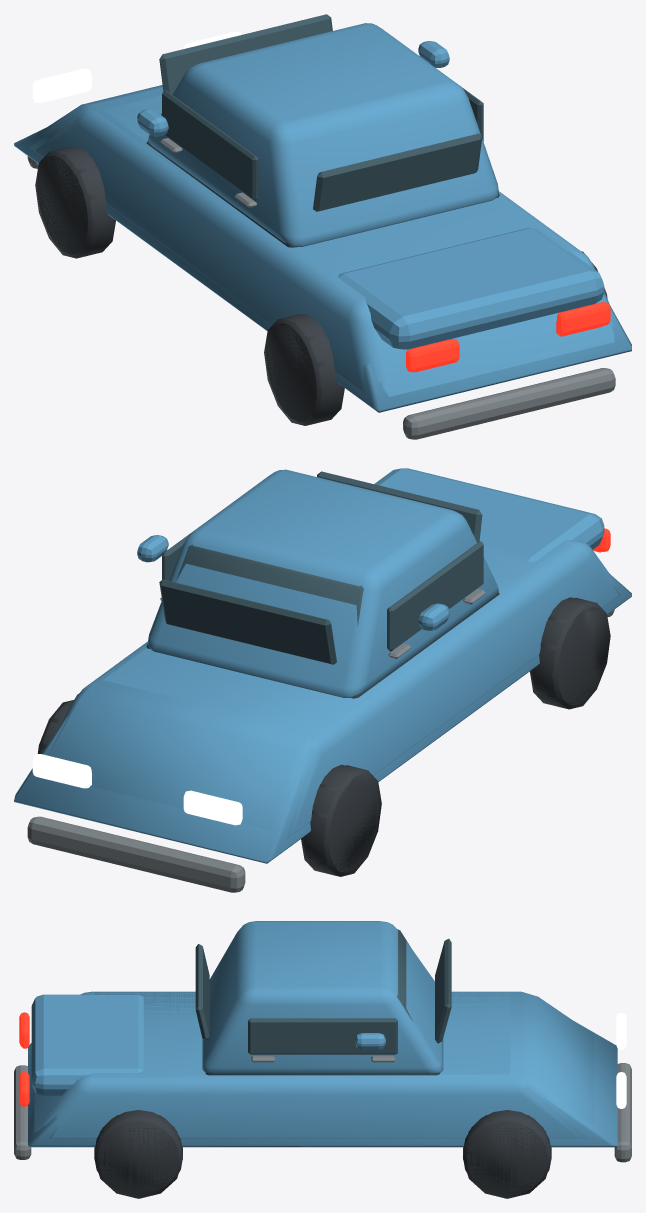
Rendered from compact_sedan.glb.
3 renders of one model, top to bottom at view 1: azimuth 30°, elevation 25°; view 2: azimuth 150°, elevation 25°; view 3: azimuth 270°, elevation 25°, orthographic. The views are drawn at different scales.
Parts seen in each view (by area): view 1: LOD0_compact_sedan_Cabin, LOD0_compact_sedan_LowerBody, LOD0_compact_sedan_Trunk, LOD2_compact_sedan_Body, LOD0_compact_sedan_RearGlass, LOD0_compact_sedan_Wheel_FL, LOD0_compact_sedan_RearBumper, LOD0_compact_sedan_Wheel_RL, LOD0_compact_sedan_SideGlass_L, LOD1_compact_sedan_Body, LOD0_compact_sedan_Windshield, LOD1_compact_sedan_Wheel_FL (+6 smaller); view 2: LOD0_compact_sedan_Cabin, LOD1_compact_sedan_Body, LOD0_compact_sedan_LowerBody, LOD2_compact_sedan_Body, LOD0_compact_sedan_Trunk, LOD0_compact_sedan_Windshield, LOD0_compact_sedan_FrontBumper, LOD0_compact_sedan_Wheel_FL, LOD0_compact_sedan_Wheel_RL, LOD2_compact_sedan_Upper, LOD0_compact_sedan_SideGlass_L, LOD1_compact_sedan_Wheel_FL (+6 smaller); view 3: LOD0_compact_sedan_LowerBody, LOD0_compact_sedan_Cabin, LOD1_compact_sedan_Body, LOD0_compact_sedan_Trunk, LOD2_compact_sedan_Body, LOD0_compact_sedan_Wheel_FR, LOD0_compact_sedan_Wheel_RR, LOD0_compact_sedan_SideGlass_R, LOD1_compact_sedan_Wheel_RR, LOD1_compact_sedan_Wheel_FR, LOD0_compact_sedan_Windshield, LOD0_compact_sedan_RearGlass (+4 smaller).
Part boxes in pixels (bbox=[...]): LOD0_compact_sedan_Cabin: bbox=[147, 23, 498, 247]; LOD0_compact_sedan_LowerBody: bbox=[36, 95, 614, 396]; LOD0_compact_sedan_Trunk: bbox=[338, 228, 604, 349]; LOD2_compact_sedan_Body: bbox=[14, 109, 631, 412]; LOD0_compact_sedan_RearGlass: bbox=[313, 133, 482, 211]; LOD0_compact_sedan_Wheel_FL: bbox=[37, 146, 113, 256]; LOD0_compact_sedan_RearBumper: bbox=[403, 368, 615, 439]; LOD0_compact_sedan_Wheel_RL: bbox=[266, 314, 342, 424]; LOD0_compact_sedan_SideGlass_L: bbox=[162, 90, 258, 200]; LOD1_compact_sedan_Body: bbox=[29, 85, 614, 393]; LOD0_compact_sedan_Windshield: bbox=[159, 14, 332, 94]; LOD1_compact_sedan_Wheel_FL: bbox=[35, 147, 115, 258]; LOD0_compact_sedan_Cabin: bbox=[147, 469, 498, 697]; LOD1_compact_sedan_Body: bbox=[48, 541, 621, 840]; LOD0_compact_sedan_LowerBody: bbox=[80, 539, 618, 834]; LOD2_compact_sedan_Body: bbox=[14, 573, 631, 863]; LOD0_compact_sedan_Trunk: bbox=[374, 468, 604, 561]; LOD0_compact_sedan_Windshield: bbox=[159, 579, 336, 664]; LOD0_compact_sedan_FrontBumper: bbox=[27, 816, 245, 892]; LOD0_compact_sedan_Wheel_FL: bbox=[303, 764, 379, 875]; LOD0_compact_sedan_Wheel_RL: bbox=[532, 597, 602, 707]; LOD2_compact_sedan_Upper: bbox=[146, 544, 499, 698]; LOD0_compact_sedan_SideGlass_L: bbox=[387, 541, 483, 651]; LOD1_compact_sedan_Wheel_FL: bbox=[301, 765, 381, 876]; LOD0_compact_sedan_LowerBody: bbox=[34, 991, 579, 1138]; LOD0_compact_sedan_Cabin: bbox=[202, 921, 443, 1073]; LOD1_compact_sedan_Body: bbox=[40, 991, 594, 1138]; LOD0_compact_sedan_Trunk: bbox=[31, 994, 143, 1095]; LOD2_compact_sedan_Body: bbox=[28, 1021, 617, 1147]; LOD0_compact_sedan_Wheel_FR: bbox=[463, 1110, 551, 1195]; LOD0_compact_sedan_Wheel_RR: bbox=[94, 1110, 182, 1195]; LOD0_compact_sedan_SideGlass_R: bbox=[248, 1018, 397, 1054]; LOD1_compact_sedan_Wheel_RR: bbox=[94, 1115, 182, 1198]; LOD1_compact_sedan_Wheel_FR: bbox=[463, 1115, 551, 1198]; LOD0_compact_sedan_Windshield: bbox=[435, 938, 451, 1043]; LOD0_compact_sedan_RearGlass: bbox=[195, 944, 209, 1040].
Size of what is drawn, in the model's own units: 2.07 by 1.53 by 4.59.
